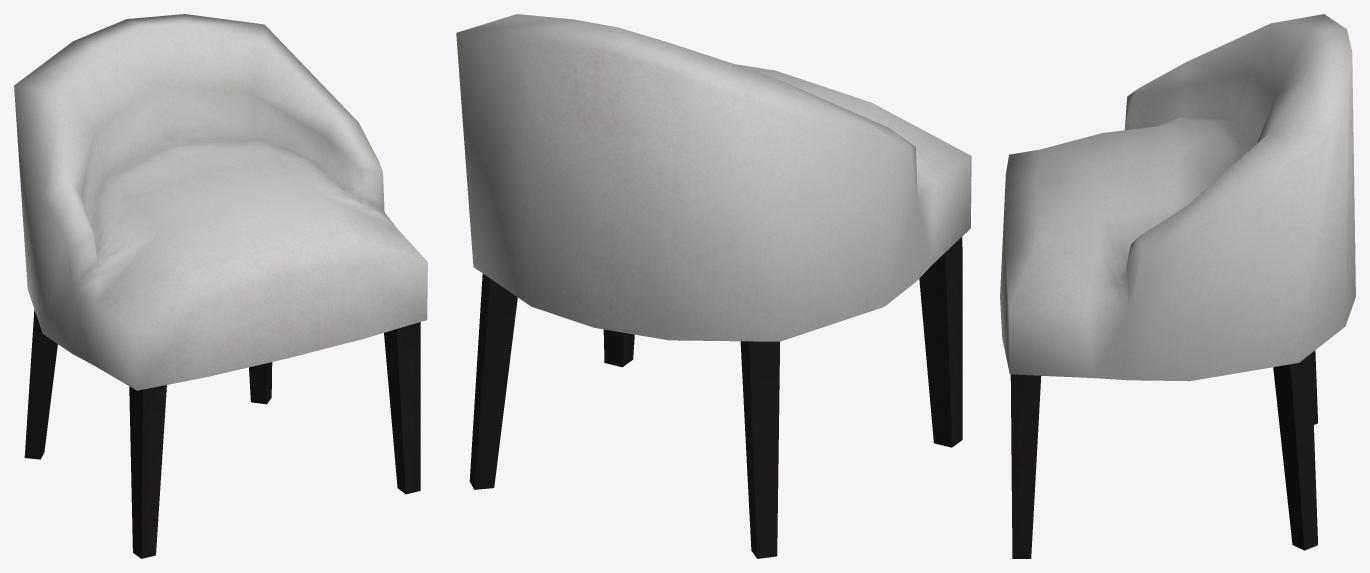
The model's file is furniture_chair5_lod1.glb.
3 renders of one model, left to right at view 1: azimuth 30°, elevation 25°; view 2: azimuth 150°, elevation 25°; view 3: azimuth 270°, elevation 25°, orthographic. The views are drawn at different scales.
Parts seen in each view (by area): view 1: surf0; view 2: surf0; view 3: surf0.
Boxes of the visible parts, box(x1,y1,x2,y2) form: surf0: box(14, 14, 427, 558); surf0: box(456, 14, 971, 558); surf0: box(1000, 14, 1355, 558).
Bounding box in the file's own units: 27.48 × 33.04 × 24.37.
